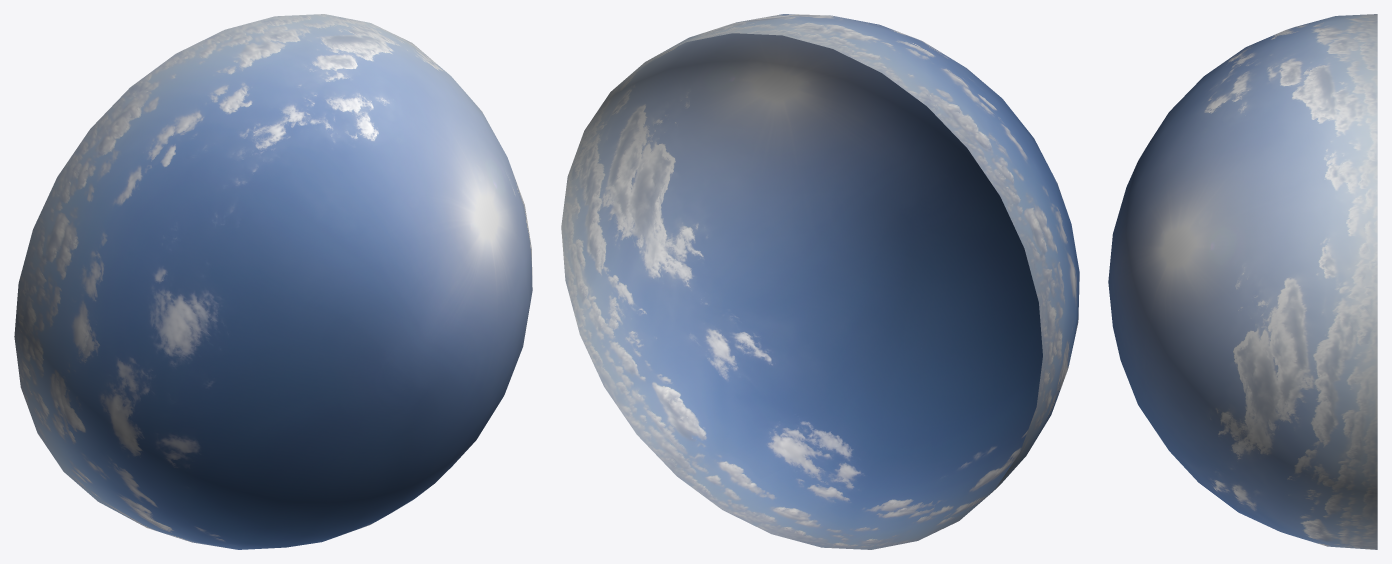
The model's file is sky_normal_res.obj.
3 renders of one model, left to right at view 1: azimuth 30°, elevation 25°; view 2: azimuth 150°, elevation 25°; view 3: azimuth 270°, elevation 25°, orthographic. The views are drawn at different scales.
Visible parts, largest first — view 1: clear; view 2: clear; view 3: clear.
Part boxes in pixels (bbox=[...]): clear: bbox=[14, 14, 532, 549]; clear: bbox=[561, 14, 1079, 549]; clear: bbox=[1108, 14, 1377, 549].
Bounding box in the file's own units: 200 × 199 × 100.
1 material, 1 textured.
